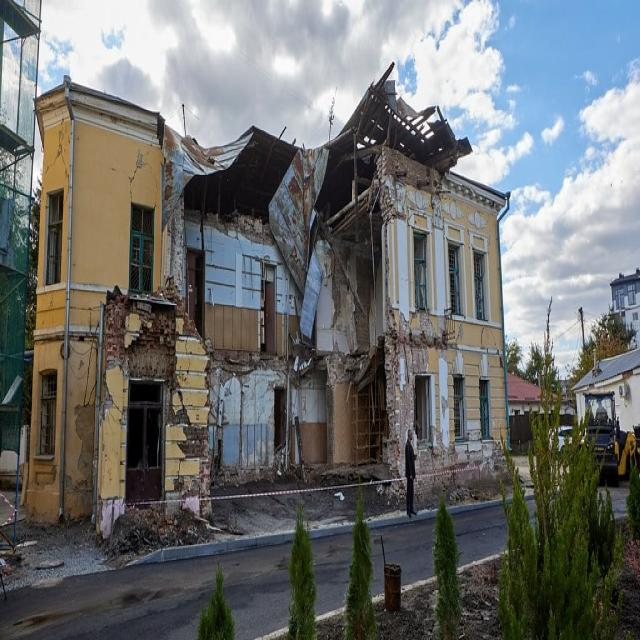broken_window: (125, 378, 164, 502), (128, 202, 154, 298), (43, 186, 63, 285), (37, 368, 57, 458), (412, 228, 429, 312), (446, 239, 464, 316), (413, 372, 431, 447), (472, 245, 488, 321), (453, 374, 465, 438)
building: (21, 61, 512, 538)
